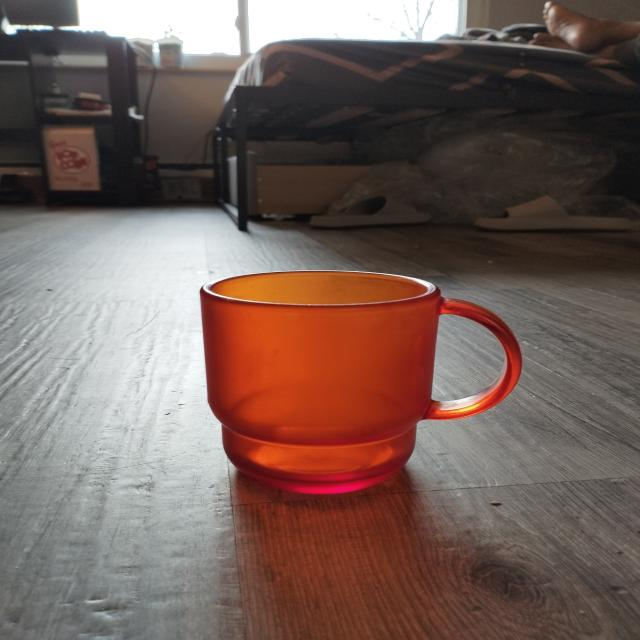Cup: (161, 251, 568, 502)
